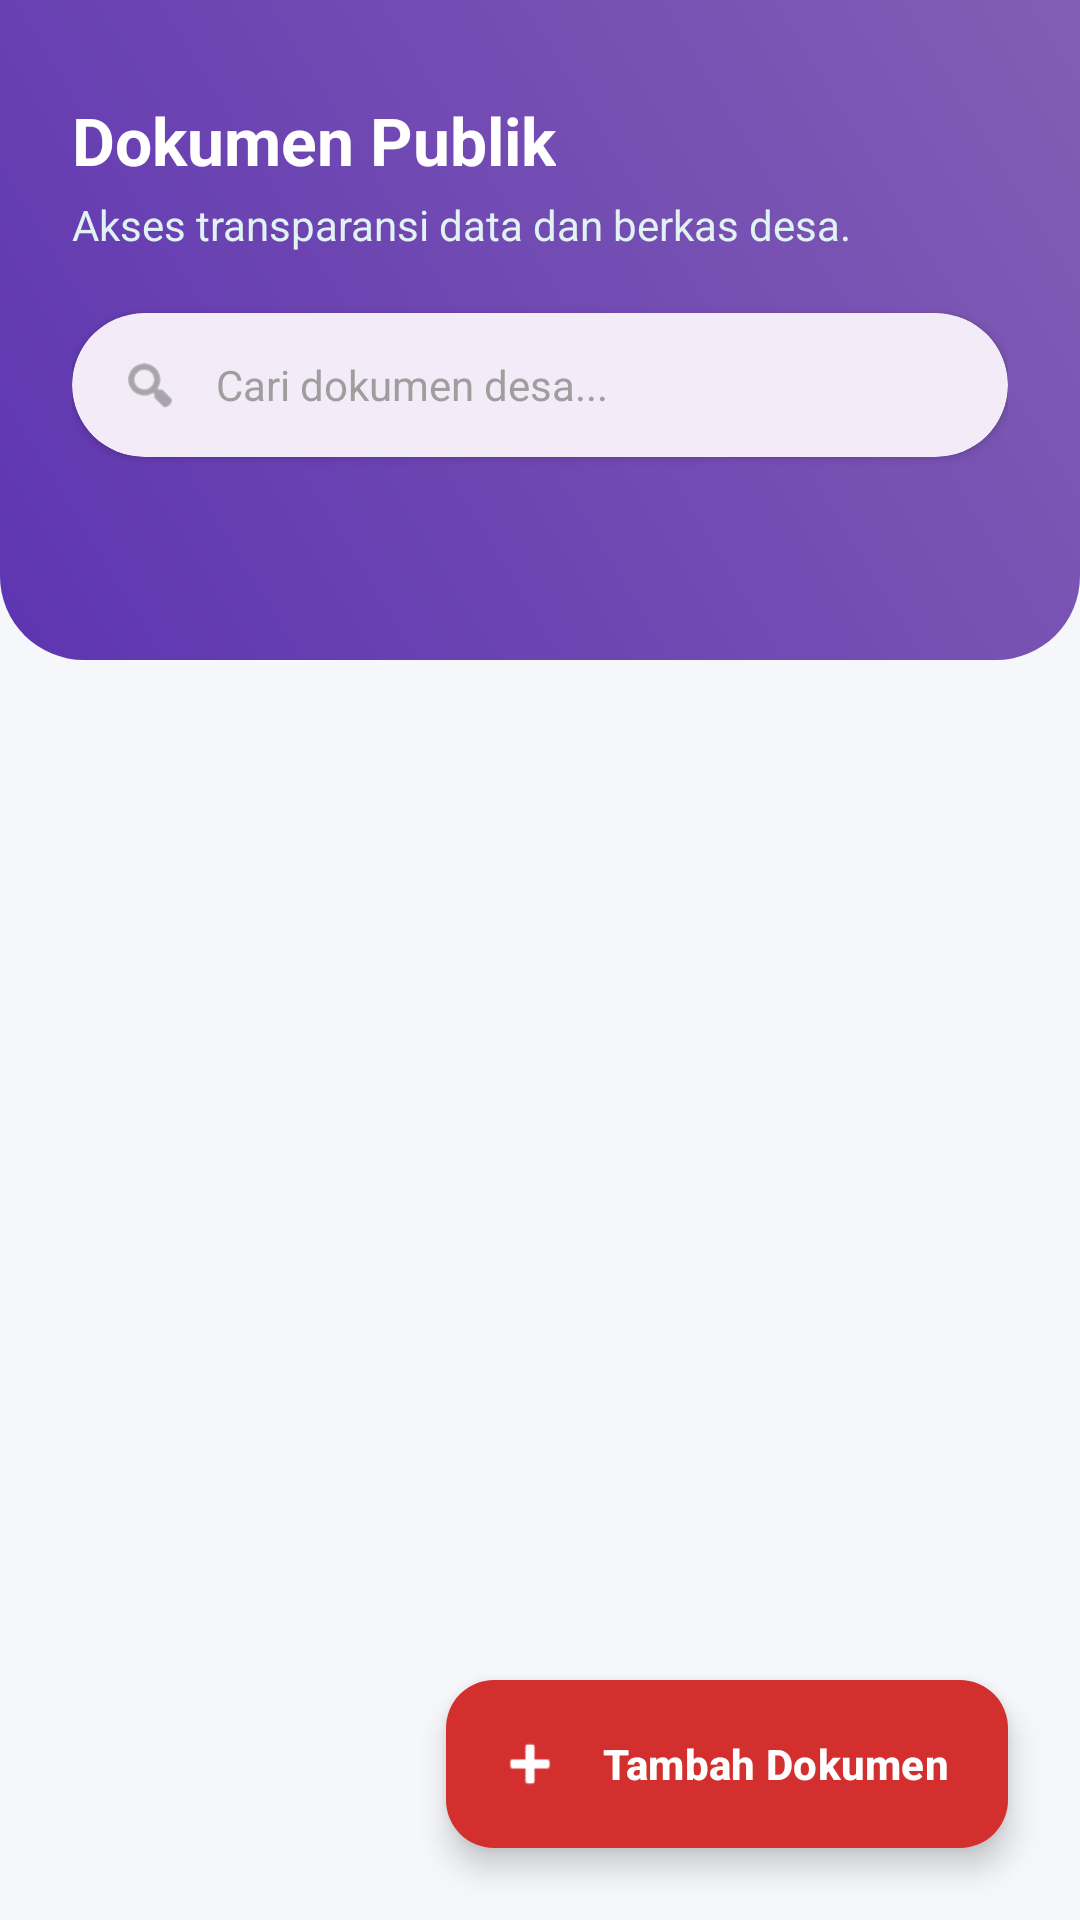

Screen size 1080 × 1920. Icon name, then its box in pixels as (x1, y1, x2, y2):
search: (128, 363, 172, 407)
